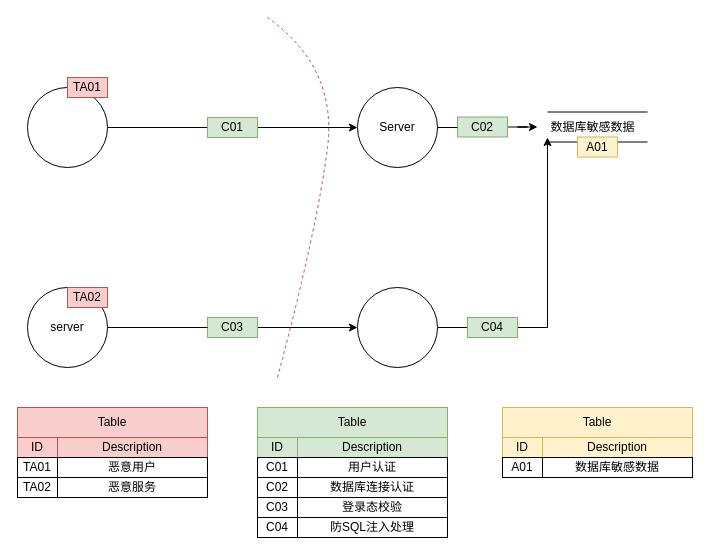
This 710x555 diagram has some shape labels left out. Here are the shapes that lost their labels. From the top down, the box of each, then its label:
(26, 86, 108, 168): station A
(356, 286, 438, 368): Web Interface
